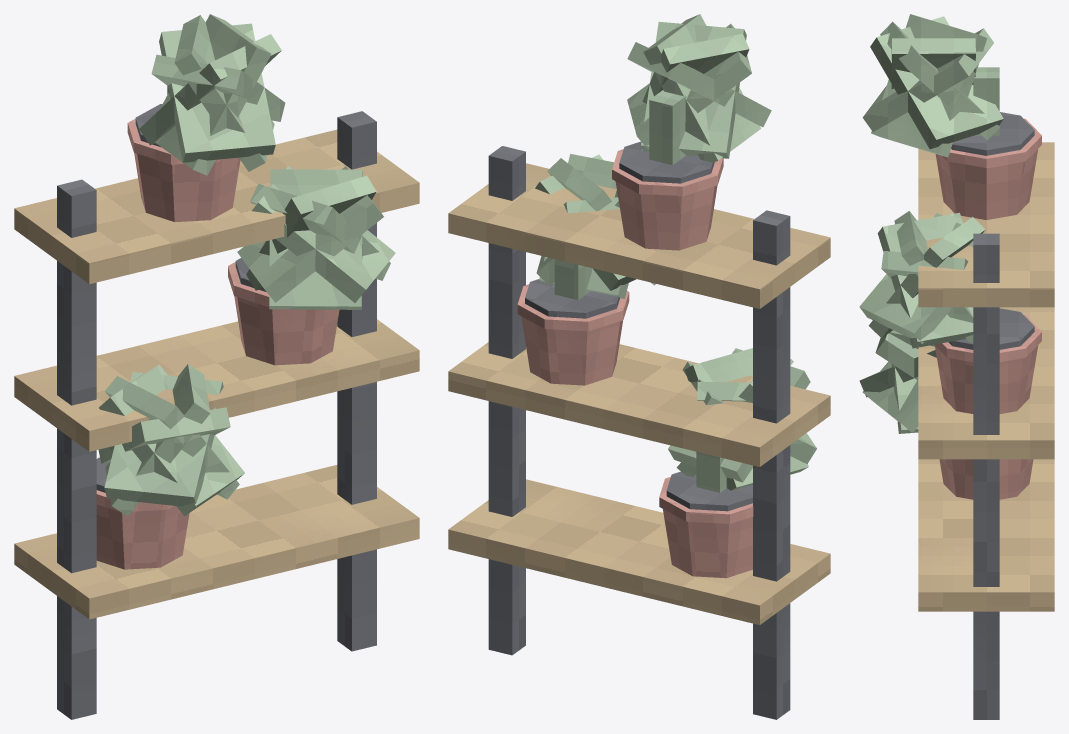
The model's file is pixel-modern-apartments-houseplant-stand-48218f74__29873.glb.
3 renders of one model, left to right at view 1: azimuth 30°, elevation 25°; view 2: azimuth 150°, elevation 25°; view 3: azimuth 270°, elevation 25°, orthographic. The views are drawn at different scales.
Parts seen in each view (by area): view 1: houseplant-stand; view 2: houseplant-stand; view 3: houseplant-stand.
Boxes of the visible parts, box(x1,y1,x2,y2) form: houseplant-stand: box(14, 14, 419, 719); houseplant-stand: box(448, 14, 830, 719); houseplant-stand: box(859, 14, 1054, 719).
Size of the model in its own units: 0.66 by 1.28 by 0.3726.
4 materials, 4 textured.
